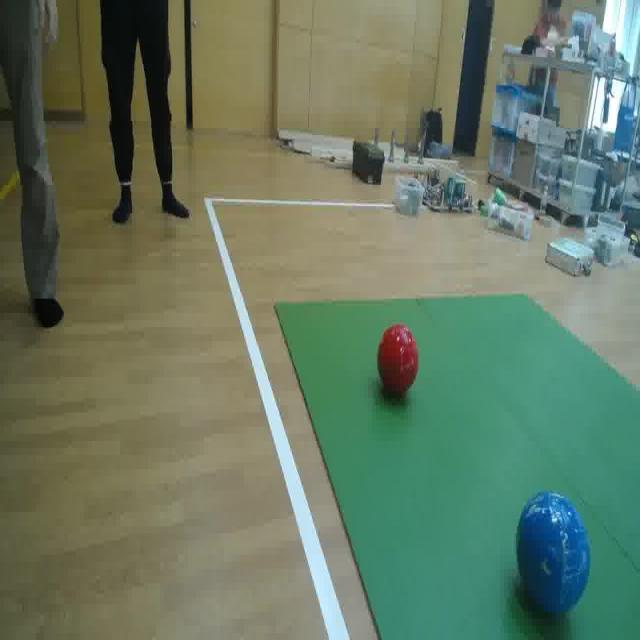blue_ball: (512, 485, 595, 624), (374, 310, 419, 407)
